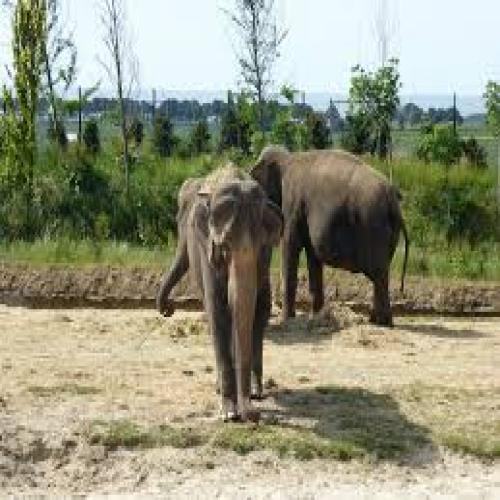asian_elephant-endangered: (251, 147, 407, 325), (186, 167, 287, 420), (158, 176, 200, 317)
